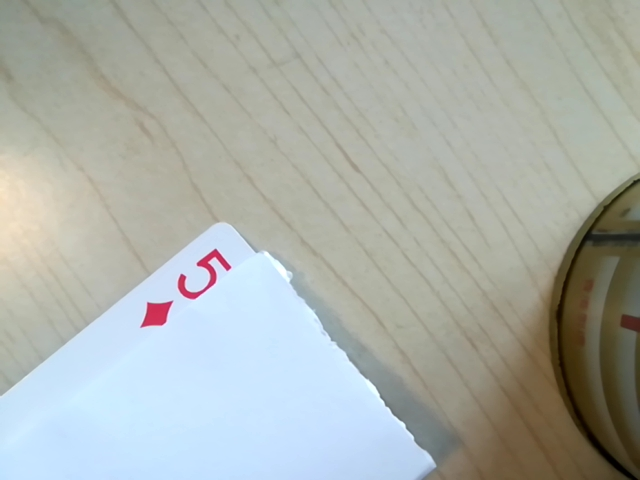fk 5: (134, 245, 241, 330)
